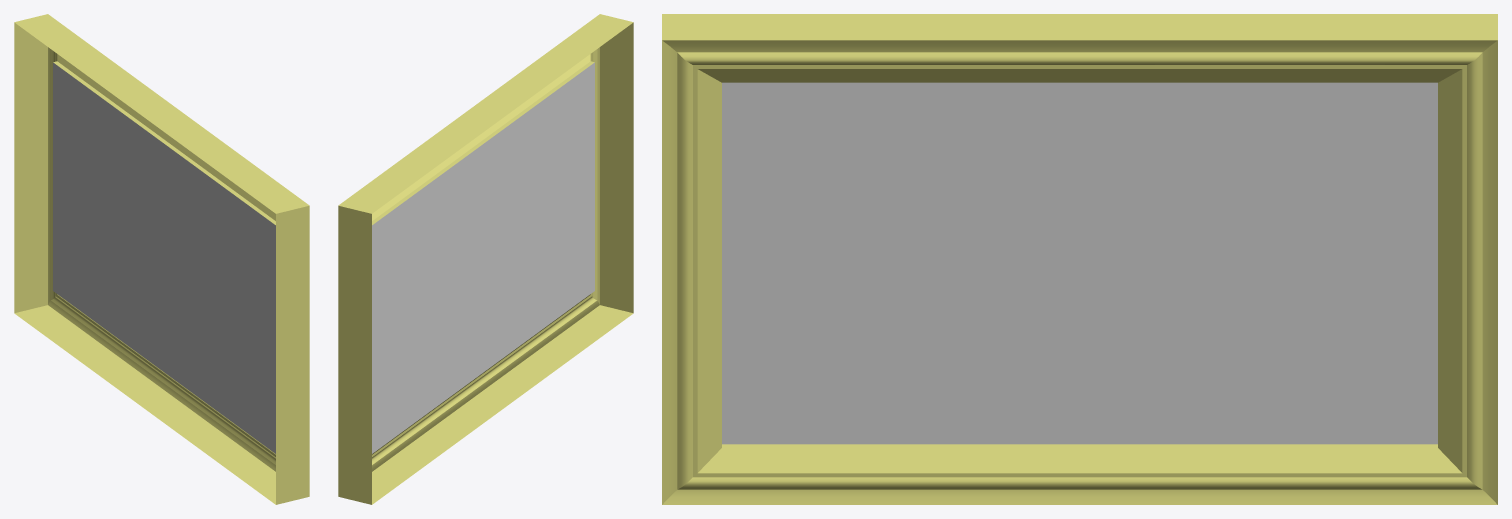
The model's file is landscape.fbx.
3 renders of one model, left to right at view 1: azimuth 30°, elevation 25°; view 2: azimuth 150°, elevation 25°; view 3: azimuth 270°, elevation 25°, orthographic. The views are drawn at different scales.
Parts seen in each view (by area): view 1: Plane; view 2: Plane; view 3: Plane.
Part boxes in pixels (x1,y1,x2,y2): Plane: (14,14,309,504); Plane: (338,14,633,504); Plane: (662,14,1497,504).
Bounding box in the file's own units: 27.87 × 229 × 374.
